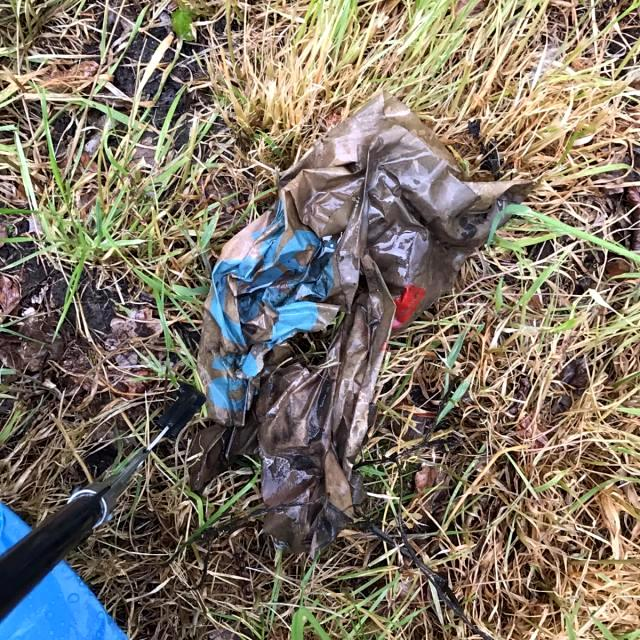Paper: (197, 88, 537, 526)
